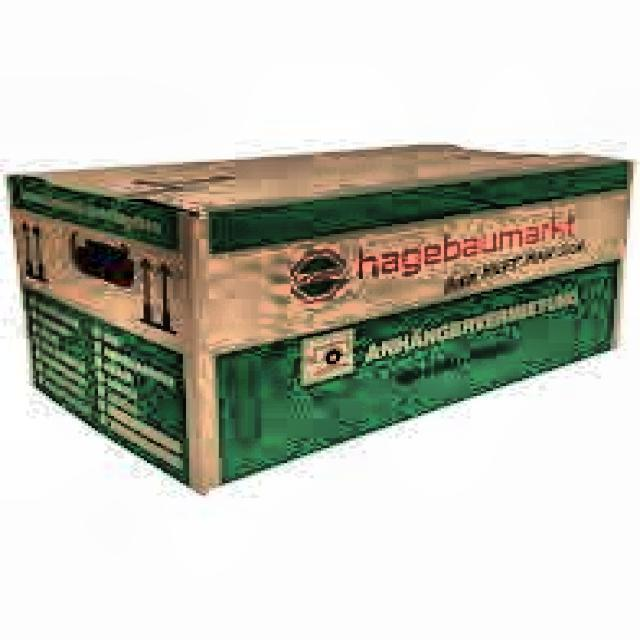cardboard: (4, 140, 634, 496)
